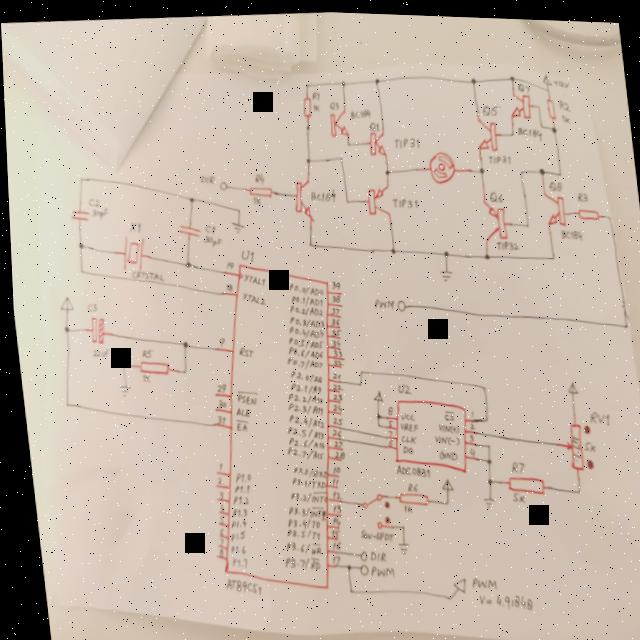capacitor: (84, 314, 103, 343), (173, 218, 199, 237), (66, 206, 88, 221)
ground: (435, 263, 450, 279), (113, 381, 128, 396), (477, 490, 491, 505), (227, 218, 242, 231), (391, 538, 404, 553)
junction: (73, 239, 82, 249), (177, 336, 185, 347), (535, 161, 543, 171), (475, 378, 483, 388), (180, 257, 188, 266), (74, 173, 82, 182), (369, 407, 377, 416), (58, 323, 66, 332), (337, 75, 345, 83), (477, 411, 485, 419), (58, 398, 66, 406), (439, 245, 446, 253), (475, 162, 482, 170), (468, 72, 475, 80), (185, 193, 192, 201), (481, 473, 488, 481), (387, 243, 394, 251), (480, 453, 487, 461), (480, 247, 487, 255), (506, 69, 513, 77), (371, 73, 378, 81), (570, 482, 577, 490), (115, 359, 122, 367), (176, 365, 183, 373), (74, 265, 81, 273), (618, 316, 625, 324), (548, 120, 555, 128), (381, 164, 388, 171), (480, 438, 487, 445), (352, 377, 359, 384), (339, 559, 345, 567), (394, 519, 400, 527), (353, 364, 359, 372), (554, 164, 560, 172), (302, 153, 308, 160), (341, 584, 347, 591), (304, 238, 310, 245), (521, 216, 527, 223), (302, 78, 308, 85), (341, 195, 347, 201), (604, 208, 609, 215), (335, 151, 340, 157), (516, 164, 521, 170), (547, 249, 552, 255), (439, 495, 444, 501), (507, 126, 512, 132), (534, 98, 538, 105), (234, 205, 238, 211), (441, 590, 445, 596), (371, 418, 375, 424), (537, 118, 541, 124), (543, 81, 547, 87), (344, 137, 348, 143)
resistor: (558, 417, 581, 467), (500, 468, 540, 492), (134, 356, 165, 375), (392, 486, 424, 503), (245, 181, 270, 197), (573, 200, 596, 217), (298, 92, 312, 115), (543, 91, 555, 116)
source: (55, 294, 70, 310), (561, 374, 575, 390), (435, 473, 448, 487), (367, 385, 379, 399), (539, 68, 551, 81)
switch: (354, 488, 381, 527)
terminal: (445, 572, 461, 589), (351, 559, 363, 572), (392, 295, 402, 308), (215, 177, 225, 188), (352, 546, 362, 557)
text: (470, 585, 526, 609), (217, 573, 255, 596), (282, 500, 320, 520), (282, 408, 320, 427), (281, 440, 319, 458), (281, 420, 319, 438), (279, 536, 316, 554), (126, 264, 162, 282), (277, 552, 315, 569), (282, 431, 320, 448), (390, 457, 425, 475), (282, 397, 319, 414), (284, 485, 323, 501), (353, 522, 389, 539), (284, 320, 320, 337), (281, 351, 319, 367), (285, 278, 320, 295), (280, 523, 315, 540), (283, 340, 320, 356), (283, 331, 320, 347), (284, 365, 318, 382), (285, 471, 321, 487), (287, 461, 322, 477), (285, 310, 320, 326), (285, 299, 320, 315), (282, 387, 318, 402), (237, 285, 262, 306), (281, 513, 315, 528), (514, 119, 540, 138), (285, 377, 317, 392), (463, 570, 491, 587), (388, 191, 417, 207), (307, 184, 334, 201), (390, 131, 418, 147), (287, 291, 319, 305), (363, 559, 388, 576), (491, 232, 517, 248), (239, 268, 262, 286), (484, 146, 510, 161), (556, 221, 580, 237), (428, 429, 455, 443), (231, 387, 254, 403), (584, 404, 605, 421), (347, 103, 370, 117), (369, 293, 391, 307), (432, 444, 454, 458), (432, 417, 455, 430), (565, 429, 576, 456), (232, 341, 250, 357), (199, 232, 220, 245), (479, 99, 499, 112), (88, 206, 107, 219), (236, 244, 252, 259), (230, 414, 245, 430), (504, 455, 520, 470), (223, 526, 241, 539), (87, 345, 106, 357), (225, 491, 244, 503), (225, 553, 242, 566), (363, 546, 380, 559), (394, 417, 414, 428), (196, 171, 214, 183), (224, 503, 242, 515), (555, 92, 569, 107), (545, 174, 560, 188), (228, 469, 247, 480), (230, 403, 247, 415), (228, 480, 245, 492), (224, 514, 241, 526), (223, 540, 240, 552), (395, 429, 412, 441), (125, 218, 139, 232), (392, 378, 407, 391), (485, 185, 500, 198), (577, 435, 592, 448), (505, 486, 520, 499), (395, 407, 411, 419), (550, 72, 567, 83), (572, 185, 586, 198), (251, 168, 263, 183), (437, 405, 451, 417), (400, 478, 414, 489), (84, 195, 98, 206), (136, 346, 150, 357), (395, 440, 408, 451), (515, 77, 528, 88), (325, 277, 337, 288), (326, 486, 338, 497), (366, 117, 378, 128), (326, 96, 337, 108), (201, 221, 213, 232), (82, 300, 94, 311), (211, 380, 222, 392), (325, 324, 338, 334), (221, 256, 232, 267), (326, 399, 337, 410), (324, 524, 335, 535), (325, 536, 336, 547), (396, 499, 407, 510), (558, 107, 569, 118), (212, 332, 222, 344), (325, 550, 335, 562), (326, 412, 338, 422), (325, 512, 335, 524), (210, 412, 222, 422), (326, 290, 337, 300), (211, 396, 222, 406), (211, 511, 221, 522), (249, 192, 259, 203), (136, 371, 146, 382), (325, 335, 337, 344), (327, 345, 339, 354), (326, 436, 338, 445), (328, 447, 340, 456), (309, 86, 318, 98), (326, 500, 336, 510), (221, 279, 230, 290), (325, 303, 336, 312), (325, 313, 336, 322), (327, 388, 338, 397), (326, 425, 337, 434), (327, 368, 337, 377), (326, 461, 336, 470), (327, 379, 338, 387), (329, 355, 339, 363), (381, 401, 388, 411), (463, 444, 471, 452), (326, 474, 334, 482), (310, 100, 318, 108), (213, 499, 219, 509), (212, 545, 218, 555), (381, 435, 388, 443), (463, 418, 470, 426), (211, 473, 218, 481), (212, 488, 219, 496), (463, 429, 470, 437), (381, 425, 388, 433), (212, 460, 218, 469), (212, 535, 218, 543), (464, 405, 469, 414), (382, 415, 388, 422), (213, 525, 218, 533)
transistor: (477, 193, 506, 237), (289, 175, 312, 220), (471, 111, 497, 148), (363, 179, 389, 215), (540, 189, 563, 222), (505, 87, 530, 115), (325, 104, 347, 135), (364, 125, 385, 153)
